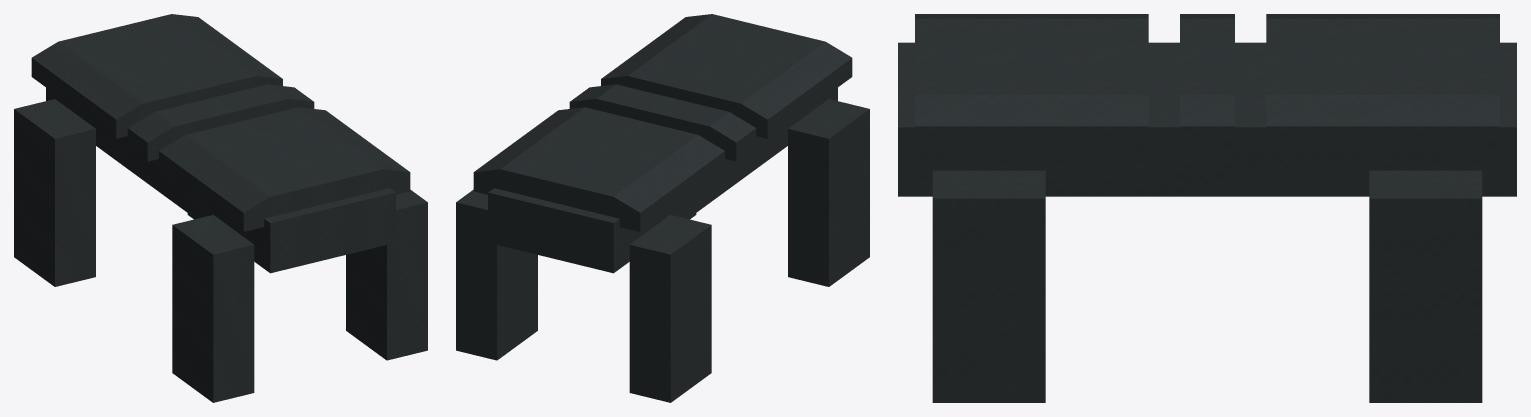
Rendered from mp5_mount.glb.
3 views of the same model, side by side, from view 1: azimuth 30°, elevation 25°; view 2: azimuth 150°, elevation 25°; view 3: azimuth 270°, elevation 25° (orthographic). The views are drawn at different scales.
Visible parts, largest first — view 1: mount__mp5_mount_LOD0_RAID_Secondary_Original_steel, mount__mp5_mount_LOD1_RAID_Secondary_Original_steel; view 2: mount__mp5_mount_LOD0_RAID_Secondary_Original_steel, mount__mp5_mount_LOD1_RAID_Secondary_Original_steel; view 3: mount__mp5_mount_LOD0_RAID_Secondary_Original_steel, mount__mp5_mount_LOD1_RAID_Secondary_Original_steel.
Part boxes in pixels (left/top/right/bottom): mount__mp5_mount_LOD0_RAID_Secondary_Original_steel: left=14, top=14, right=425, bottom=399; mount__mp5_mount_LOD1_RAID_Secondary_Original_steel: left=14, top=25, right=427, bottom=402; mount__mp5_mount_LOD0_RAID_Secondary_Original_steel: left=458, top=14, right=869, bottom=399; mount__mp5_mount_LOD1_RAID_Secondary_Original_steel: left=456, top=25, right=869, bottom=402; mount__mp5_mount_LOD0_RAID_Secondary_Original_steel: left=898, top=14, right=1516, bottom=398; mount__mp5_mount_LOD1_RAID_Secondary_Original_steel: left=932, top=14, right=1482, bottom=402.
Bounding box in the file's own units: 0.094 × 0.083 × 0.17.
Materials: 1 (1 with a texture image).
